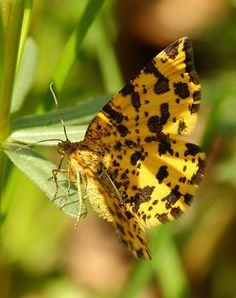Argyreus hyperbius: (8, 33, 210, 261)
butterfly: (6, 31, 208, 259)
